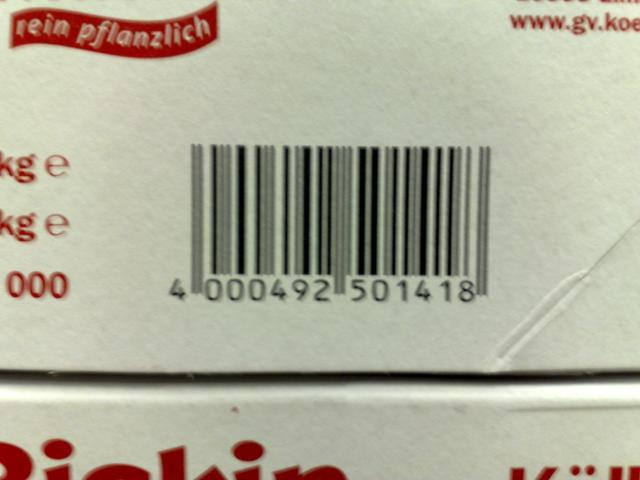Barkod: (188, 142, 492, 278)
